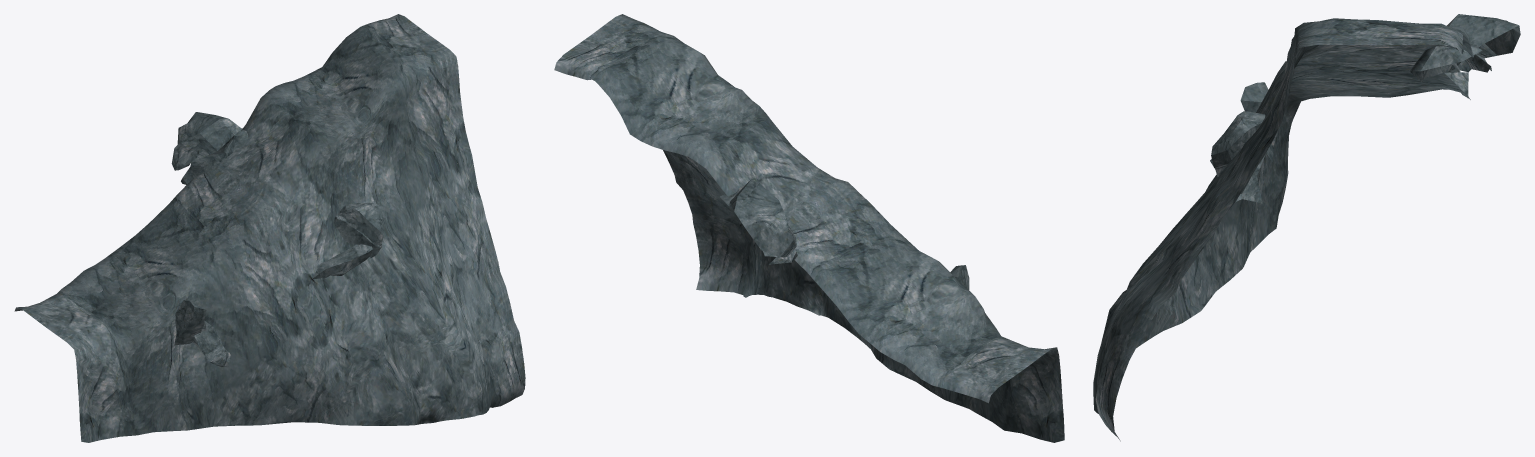
Rendered from SlopeUpPiece1.fbx.
3 renders of one model, left to right at view 1: azimuth 30°, elevation 25°; view 2: azimuth 150°, elevation 25°; view 3: azimuth 270°, elevation 25°, orthographic. The views are drawn at different scales.
Visible parts, largest first — view 1: SlopeUpPiece1; view 2: SlopeUpPiece1; view 3: SlopeUpPiece1.
Boxes of the visible parts, x1=… form: SlopeUpPiece1: x1=14, y1=14, x2=525, y2=442; SlopeUpPiece1: x1=554, y1=14, x2=1064, y2=442; SlopeUpPiece1: x1=1093, y1=14, x2=1520, y2=441.
Size of the model in its own units: 10.03 by 7.38 by 7.13.
Materials: 3 (3 with a texture image).
